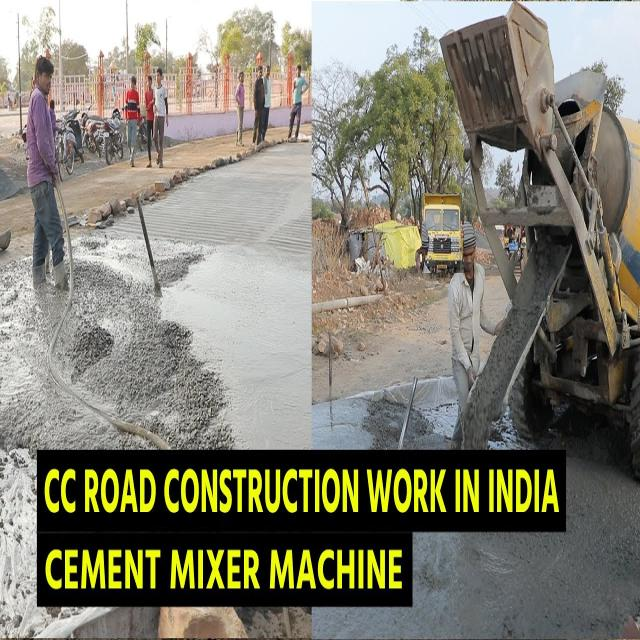truck: (422, 194, 464, 273)
